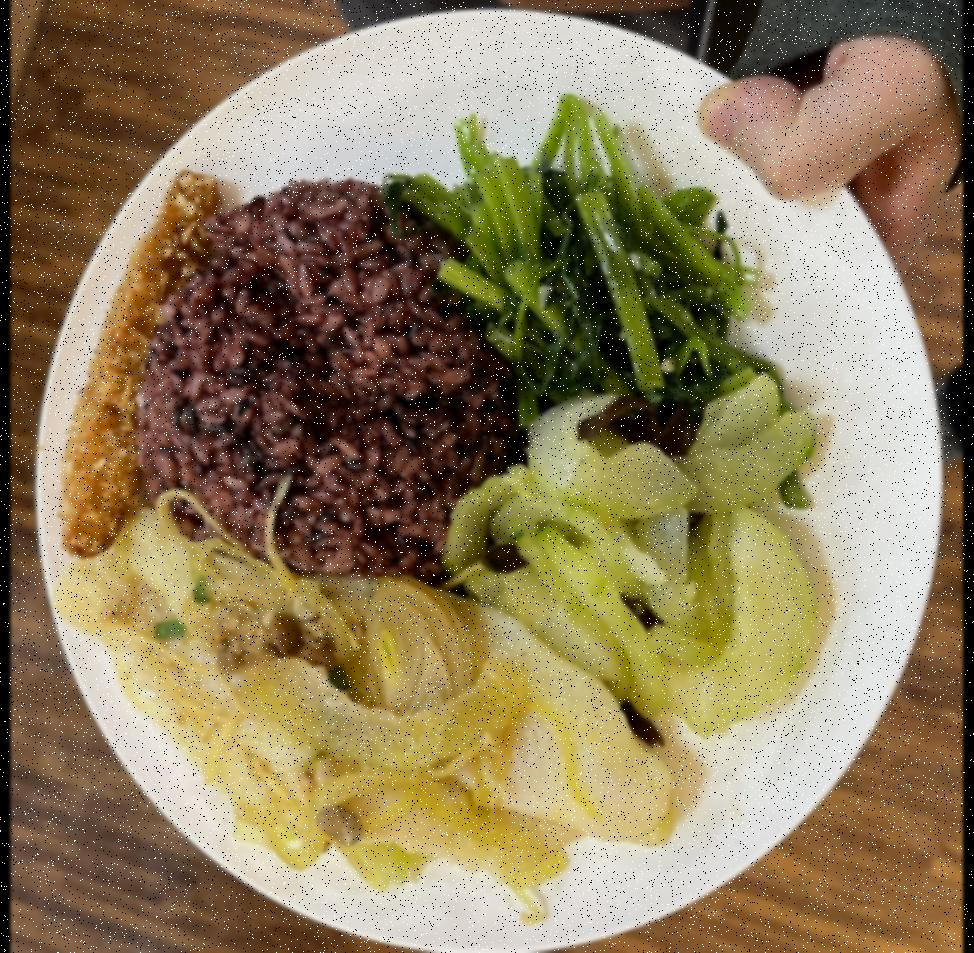fried spanish mackerel: (51, 159, 228, 557)
plate: (16, 10, 939, 953)
purple rice: (143, 181, 508, 583)
side dish: (453, 390, 826, 732), (399, 99, 775, 420)
steamed fish fillet: (66, 520, 684, 874)
